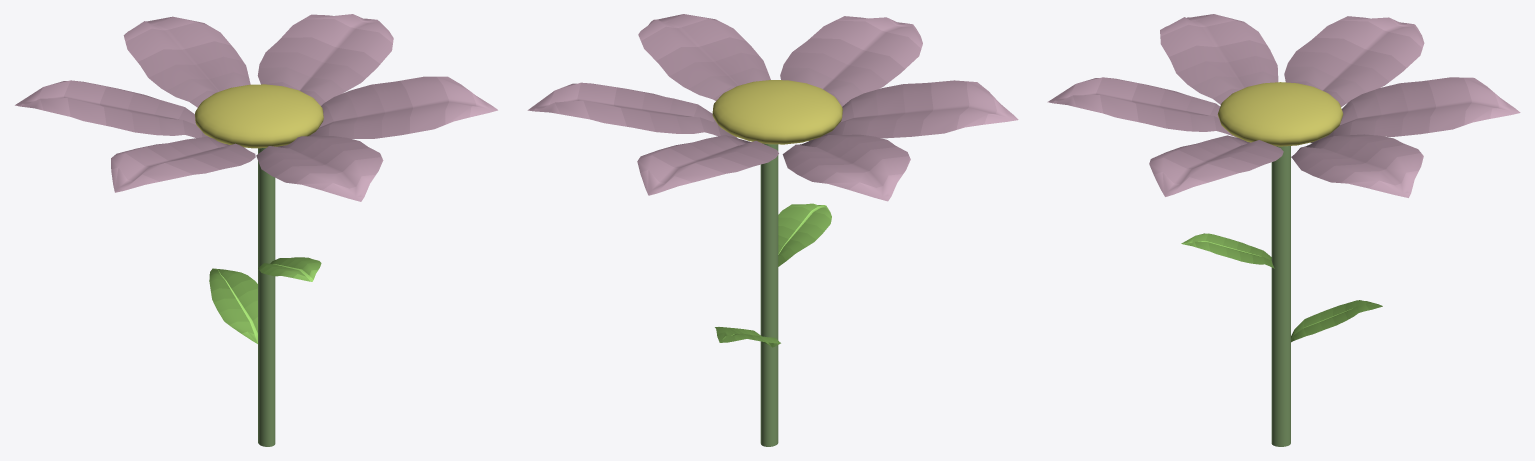
Rendered from pinkflowerallpetalsleaves.fbx.
3 views of the same model, side by side, from view 1: azimuth 30°, elevation 25°; view 2: azimuth 150°, elevation 25°; view 3: azimuth 270°, elevation 25° (orthographic). The views are drawn at different scales.
Parts seen in each view (by area): view 1: pasted__pasted__pasted__pasted__pasted__polySurface1, pasted__pasted__pasted__pasted__pasted__pasted__polySurface1, pasted__pasted__pasted__pasted__polySurface1, pasted__polySurface1 (×2), pSphere1, pasted__pasted__pasted__polySurface1, pasted__pCylinder1, pasted__pasted__polySurface1, polySurface1; view 2: pasted__polySurface1 (×2), pasted__pasted__polySurface1, pasted__pasted__pasted__pasted__pasted__pasted__polySurface1, pSphere1, pasted__pasted__pasted__pasted__pasted__polySurface1, pasted__pasted__pasted__polySurface1, pasted__pCylinder1, pasted__pasted__pasted__pasted__polySurface1, polySurface1; view 3: pasted__pasted__pasted__polySurface1, pasted__pasted__pasted__pasted__polySurface1, pasted__pasted__polySurface1, pasted__polySurface1 (×2), pSphere1, pasted__pCylinder1, pasted__pasted__pasted__pasted__pasted__polySurface1, pasted__pasted__pasted__pasted__pasted__pasted__polySurface1, polySurface1.
Boxes of the visible parts, x1=… form: pasted__pasted__pasted__pasted__pasted__polySurface1: x1=257, y1=14, x2=393, y2=105; pasted__pasted__pasted__pasted__pasted__pasted__polySurface1: x1=309, y1=76, x2=497, y2=138; pasted__pasted__pasted__pasted__polySurface1: x1=123, y1=16, x2=250, y2=107; pasted__polySurface1 (×2): x1=256, y1=136, x2=383, y2=281; pSphere1: x1=195, y1=84, x2=323, y2=148; pasted__pasted__pasted__polySurface1: x1=15, y1=80, x2=210, y2=138; pasted__pCylinder1: x1=258, y1=148, x2=275, y2=446; pasted__pasted__polySurface1: x1=111, y1=136, x2=255, y2=192; polySurface1: x1=209, y1=268, x2=257, y2=343; pasted__polySurface1 (×2): x1=778, y1=16, x2=922, y2=266; pasted__pasted__polySurface1: x1=809, y1=80, x2=1018, y2=140; pasted__pasted__pasted__pasted__pasted__pasted__polySurface1: x1=638, y1=14, x2=770, y2=100; pSphere1: x1=712, y1=80, x2=842, y2=144; pasted__pasted__pasted__pasted__pasted__polySurface1: x1=527, y1=82, x2=737, y2=138; pasted__pasted__pasted__polySurface1: x1=782, y1=134, x2=910, y2=201; pasted__pCylinder1: x1=760, y1=143, x2=778, y2=446; pasted__pasted__pasted__pasted__polySurface1: x1=637, y1=135, x2=778, y2=195; polySurface1: x1=715, y1=327, x2=780, y2=347; pasted__pasted__pasted__polySurface1: x1=1284, y1=16, x2=1424, y2=106; pasted__pasted__pasted__pasted__polySurface1: x1=1311, y1=77, x2=1520, y2=143; pasted__pasted__polySurface1: x1=1160, y1=14, x2=1278, y2=104; pasted__polySurface1 (×2): x1=1047, y1=77, x2=1274, y2=268; pSphere1: x1=1217, y1=82, x2=1343, y2=146; pasted__pCylinder1: x1=1271, y1=146, x2=1290, y2=446; pasted__pasted__pasted__pasted__pasted__polySurface1: x1=1291, y1=134, x2=1423, y2=197; pasted__pasted__pasted__pasted__pasted__pasted__polySurface1: x1=1149, y1=135, x2=1283, y2=196; polySurface1: x1=1291, y1=300, x2=1382, y2=342.
Bounding box in the file's own units: 0.6459 × 0.5783 × 0.7152.
